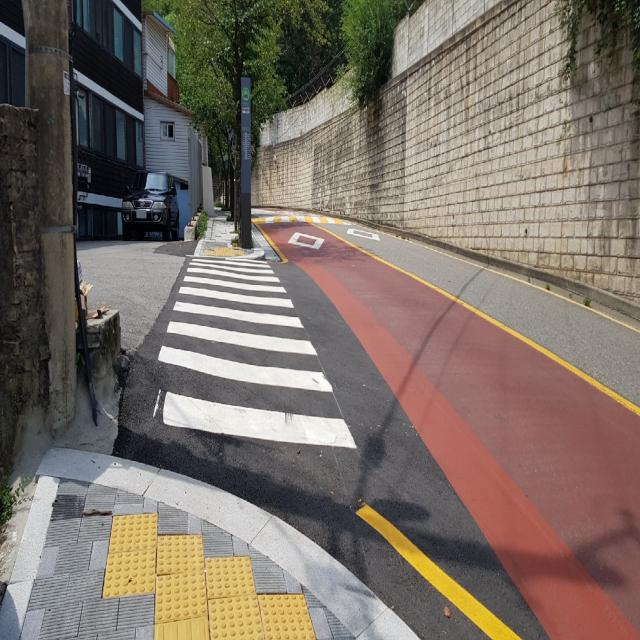횡단보도: (151, 256, 359, 452)
